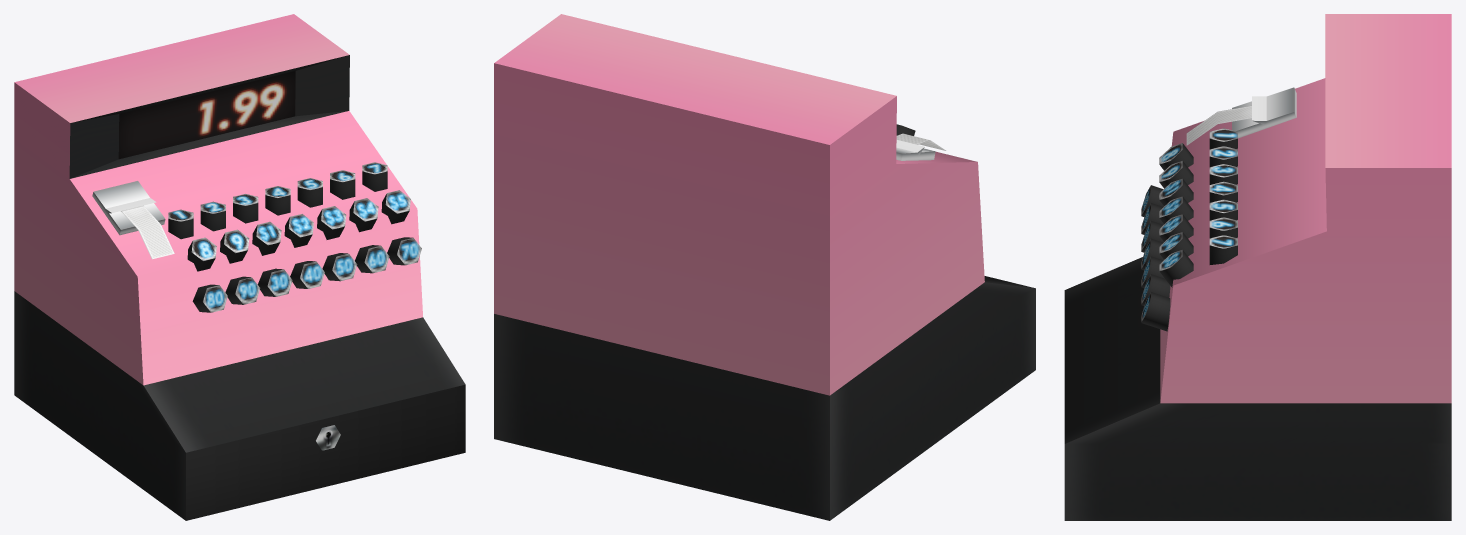
The model's file is Cash_Register_E.FBX.
The picture shows the model from 3 angles, left to right: view 1: azimuth 30°, elevation 25°; view 2: azimuth 150°, elevation 25°; view 3: azimuth 270°, elevation 25°; orthographic projection. The views are drawn at different scales.
Parts seen in each view (by area): view 1: Cash Register; view 2: Cash Register; view 3: Cash Register.
Part boxes in pixels (x1,y1,x2,y2): Cash Register: (14,14,465,520); Cash Register: (494,14,1035,520); Cash Register: (1064,14,1451,520).
Bounding box in the file's own units: 110 × 117 × 117.
